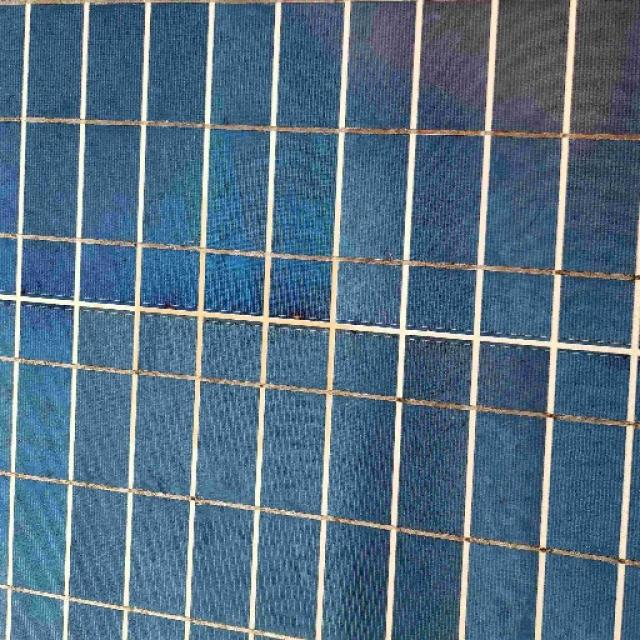Clean: (4, 40, 639, 640)
